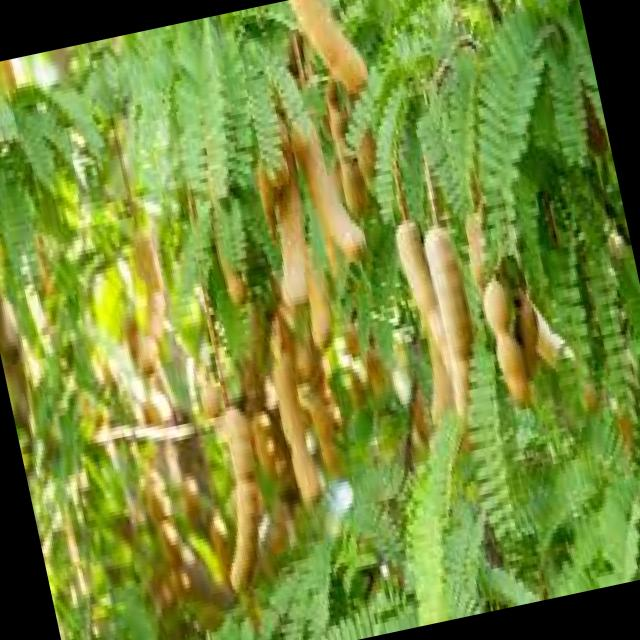Tamarind: (174, 325, 380, 556), (381, 195, 570, 444), (216, 101, 382, 338), (72, 248, 218, 482)
